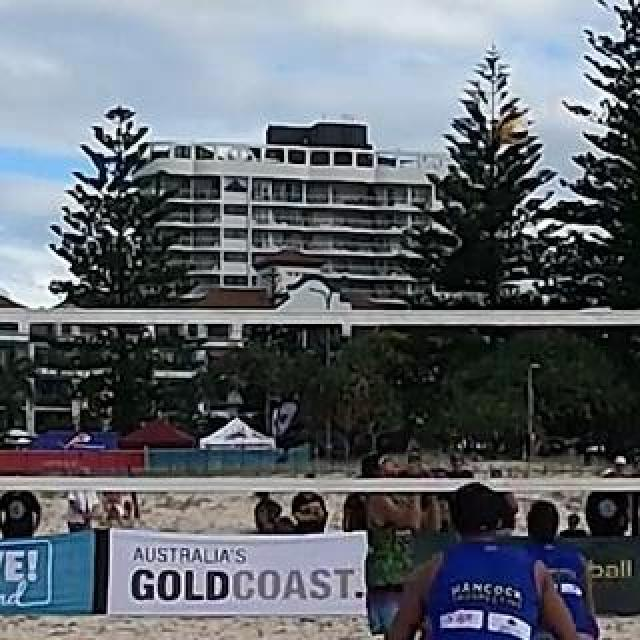volleyball: (500, 111, 530, 143)
